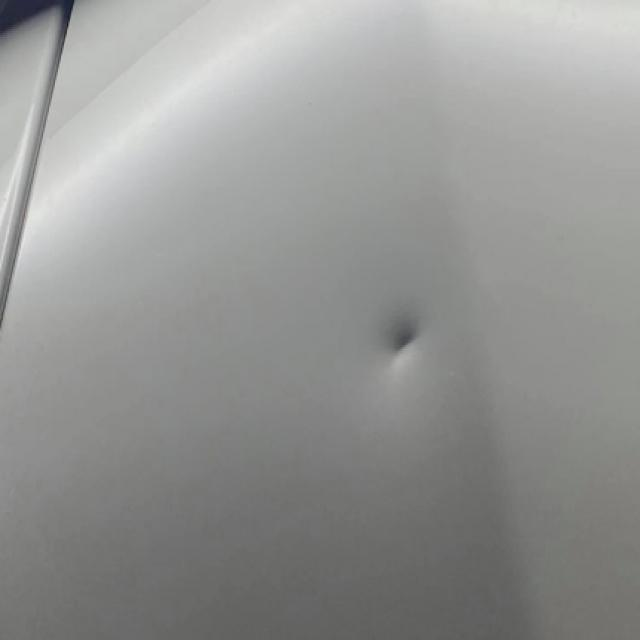dents: (339, 302, 443, 396)
